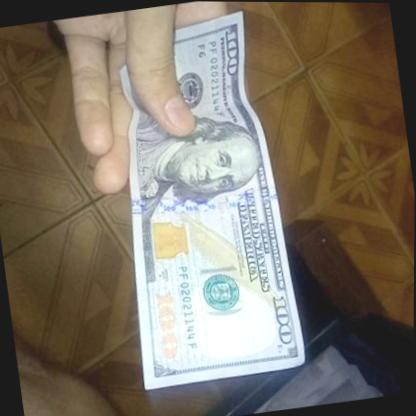one_hundred-front: (96, 4, 308, 392)
